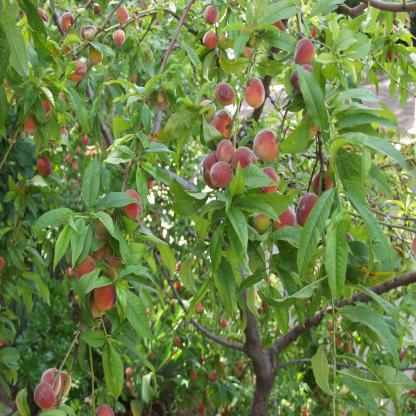Peach leaf: (337, 304, 401, 374), (295, 188, 335, 281), (326, 211, 348, 313), (296, 62, 327, 130), (274, 265, 306, 328), (28, 202, 75, 241), (125, 289, 154, 344), (237, 192, 282, 226), (78, 155, 104, 210), (216, 256, 236, 324), (179, 246, 206, 295), (48, 220, 72, 272), (227, 205, 249, 261), (310, 343, 330, 402), (75, 268, 104, 306), (255, 2, 298, 27), (68, 84, 89, 133), (239, 164, 275, 192), (70, 218, 89, 270), (262, 28, 300, 54), (91, 193, 137, 214), (209, 222, 226, 278), (330, 29, 359, 61), (109, 341, 124, 402), (229, 161, 246, 200), (107, 114, 132, 138), (78, 328, 105, 350), (135, 166, 147, 214), (140, 141, 174, 157), (234, 32, 252, 61), (140, 102, 153, 138), (22, 89, 37, 115)
